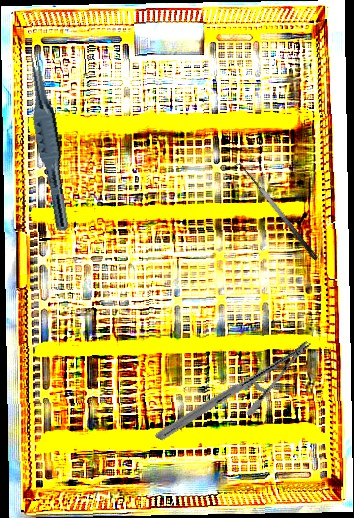Needle Holder: (154, 299, 313, 482)
Spatula Surgical: (230, 157, 320, 268)
Tissue Forceps: (18, 48, 80, 232)
